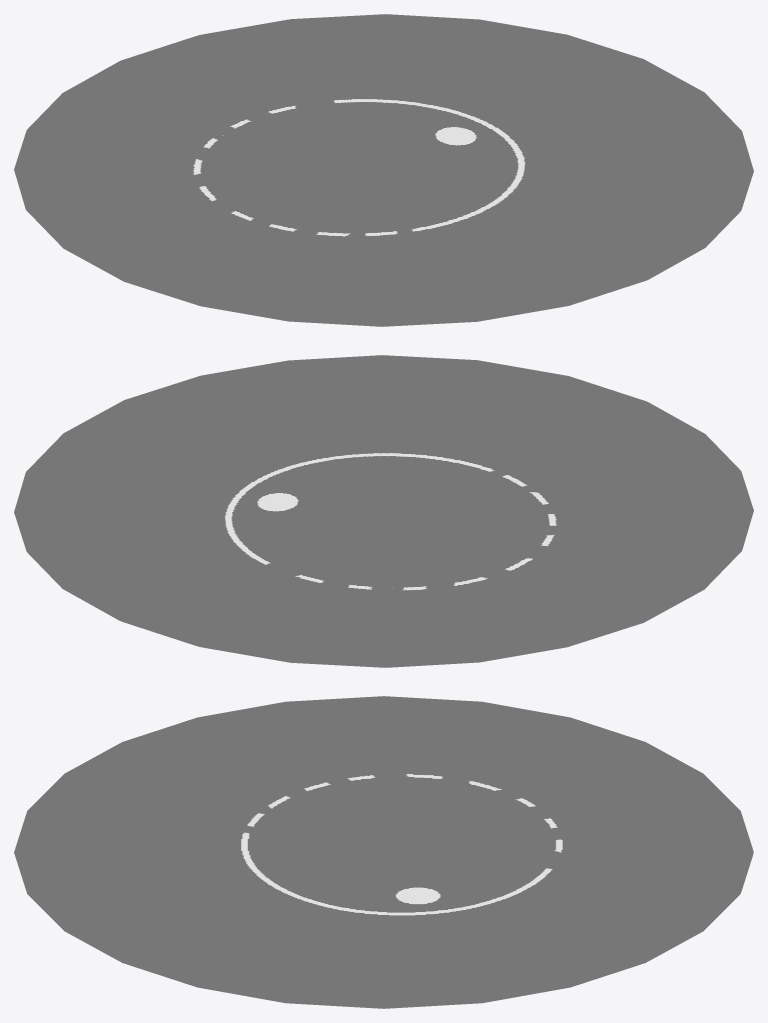
Rendered from 隱身球.fbx.
3 views of the same model, one above another, from view 1: azimuth 30°, elevation 25°; view 2: azimuth 150°, elevation 25°; view 3: azimuth 270°, elevation 25° (orthographic).
Parts seen in each view (by area): view 1: 隱身球; view 2: 隱身球; view 3: 隱身球.
Boxes of the visible parts, x1,y1,x2,y2 form: 隱身球: (14, 14, 753, 326); 隱身球: (14, 355, 753, 667); 隱身球: (14, 696, 753, 1008).
Bounding box in the file's own units: 4 × 2.45e-16 × 4.
1 material, 1 textured.
